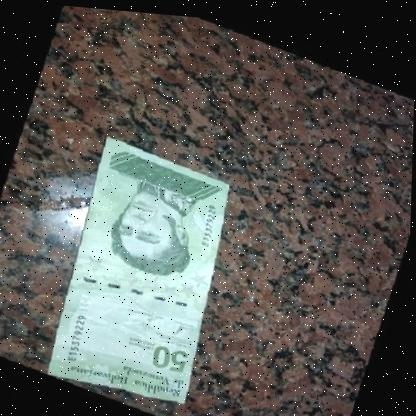fifty-front-vef: (46, 131, 246, 416)
